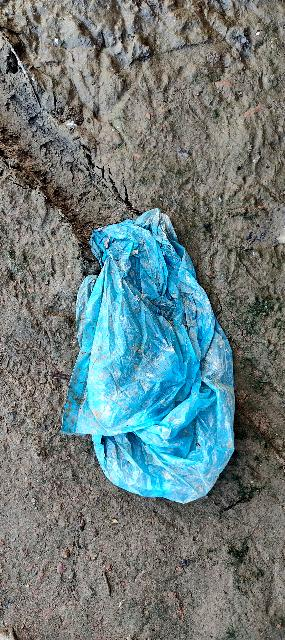polythene: (66, 198, 245, 498)
